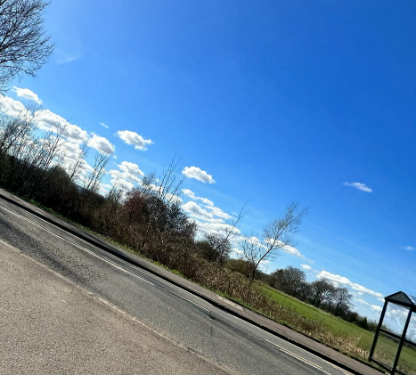tree: (240, 205, 313, 294)
